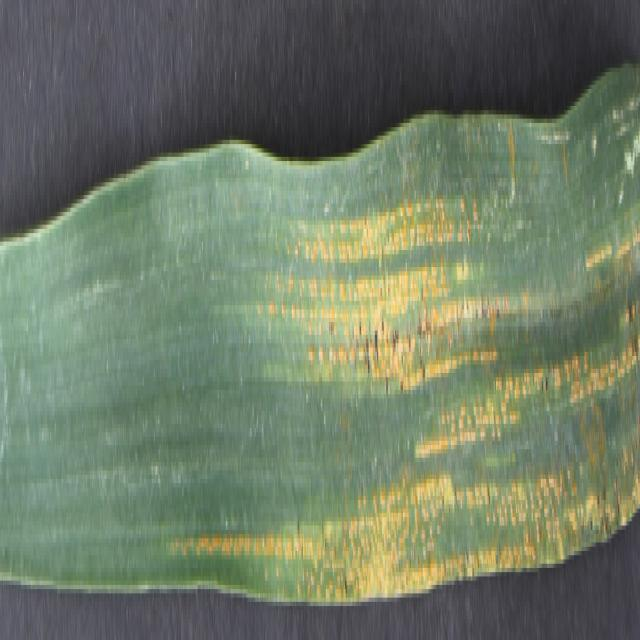leaf rust: (209, 169, 640, 602)
